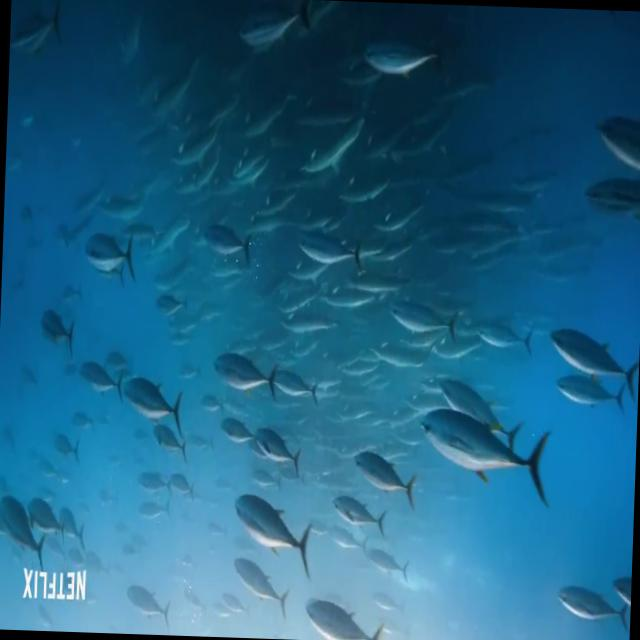fish: (416, 404, 556, 508), (232, 494, 314, 582), (550, 329, 640, 399), (362, 26, 446, 80), (0, 494, 49, 574), (350, 448, 418, 504), (120, 376, 186, 432), (212, 354, 280, 400), (386, 300, 459, 340), (232, 565, 290, 615), (554, 375, 628, 414), (84, 228, 137, 282), (196, 220, 254, 267), (329, 494, 387, 537), (474, 318, 536, 358), (252, 423, 302, 471), (298, 234, 362, 268), (125, 586, 173, 629), (78, 360, 128, 399), (40, 314, 76, 352)
